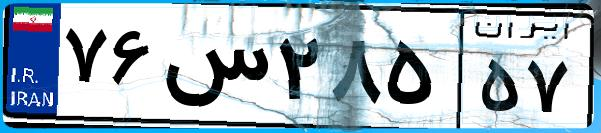2: (270, 28, 330, 110)
5: (385, 28, 445, 110), (475, 38, 525, 113)
6: (110, 28, 158, 98)
7: (57, 26, 110, 100), (525, 38, 570, 115)
8: (330, 28, 385, 110)
س: (158, 20, 270, 120)
